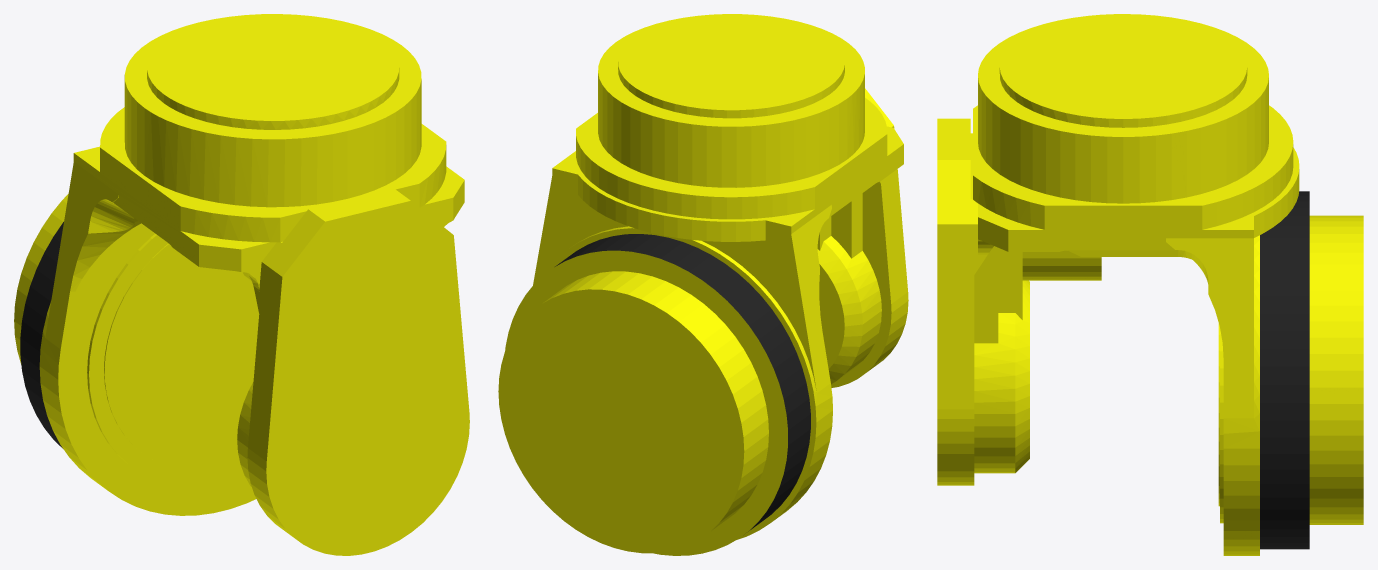
3 renders of one model, left to right at view 1: azimuth 30°, elevation 25°; view 2: azimuth 150°, elevation 25°; view 3: azimuth 270°, elevation 25°, orthographic. The views are drawn at different scales.
Parts seen in each view (by area): view 1: node; view 2: node; view 3: node.
Boxes of the visible parts, x1,y1,x2,y2 form: node: (14, 14, 469, 555); node: (498, 14, 908, 555); node: (937, 14, 1363, 555).
Bounding box in the file's own units: 306 × 429 × 352.
